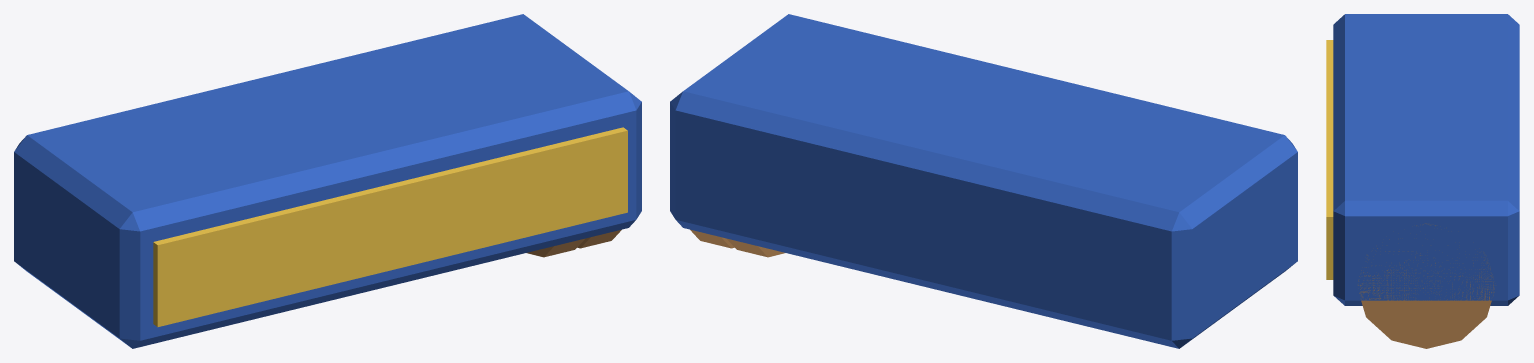
File: cookie_pack.glb
The picture shows the model from 3 angles, left to right: view 1: azimuth 30°, elevation 25°; view 2: azimuth 150°, elevation 25°; view 3: azimuth 270°, elevation 25°; orthographic projection. The views are drawn at different scales.
Visible parts, largest first — view 1: cookie_pack; view 2: cookie_pack; view 3: cookie_pack.
Part boxes in pixels (x1,y1,x2,y2): cookie_pack: (14, 14, 641, 348); cookie_pack: (670, 14, 1297, 348); cookie_pack: (1326, 14, 1519, 348).
Bounding box in the file's own units: 0.2 × 0.068 × 0.083.
